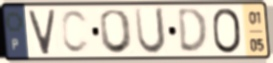C: (59, 8, 92, 56)
D: (175, 6, 210, 56)
O: (98, 8, 135, 56), (210, 6, 244, 55)
U: (132, 6, 168, 57)
V: (26, 7, 58, 57)
